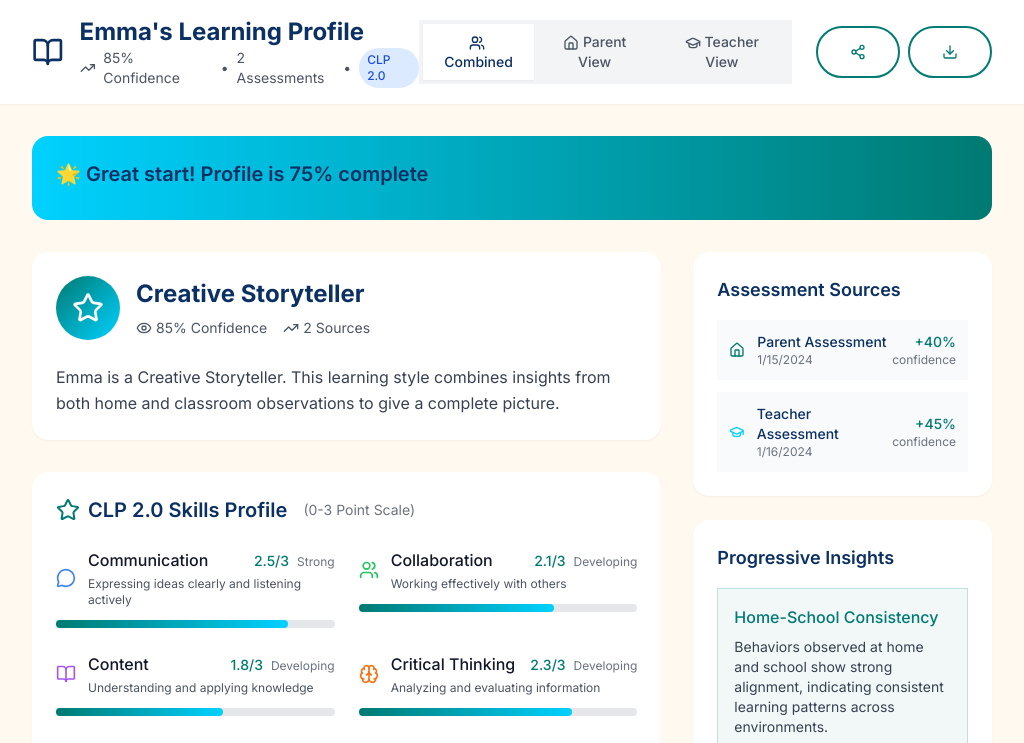
Test case: ContextualResultsPage › Share Functionality › should close share modal when cancel is clicked
Click the 4th button at (858, 52), box [816,26,900,78]
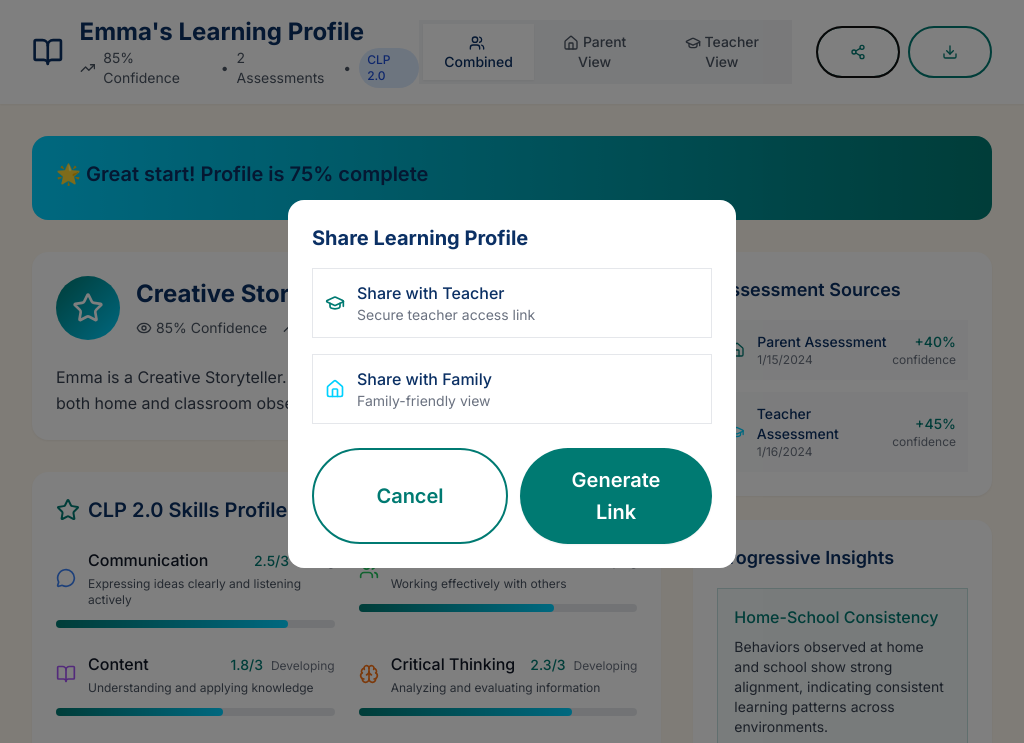
Click the button "Cancel" at (410, 496), box [312,448,508,544]
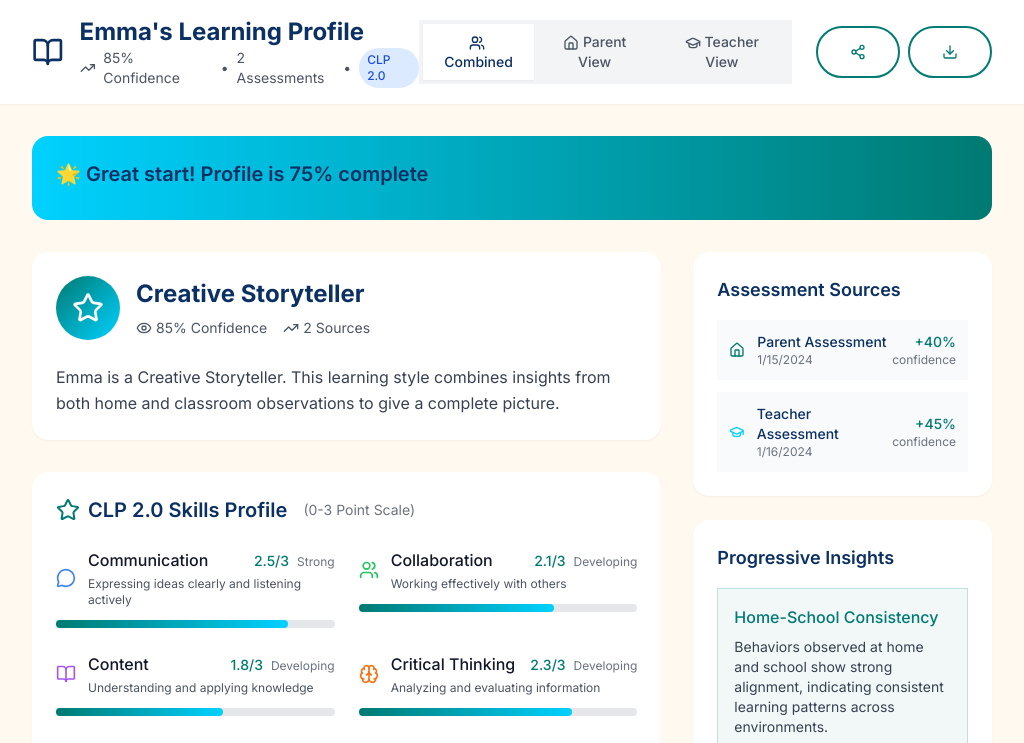
expect the heading "Share Learning Profile" is gone: met
